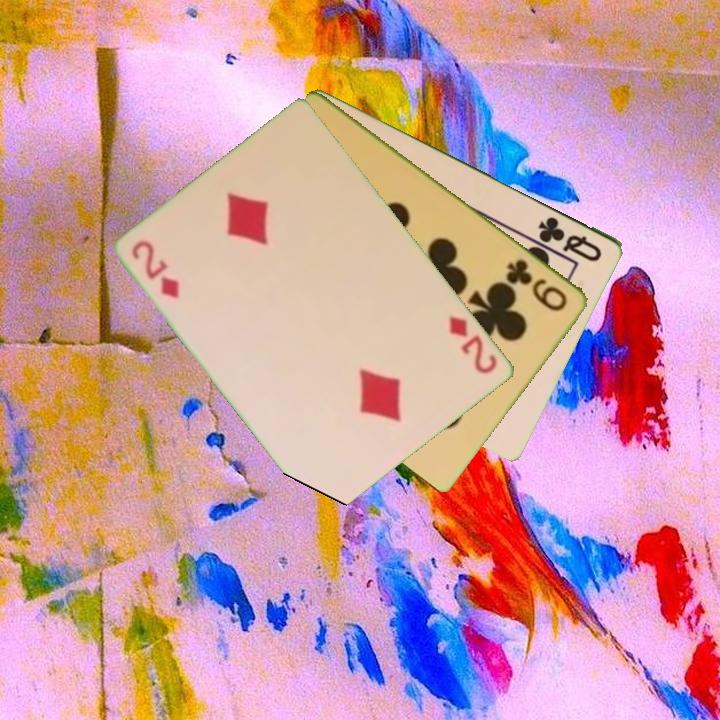2d: (445, 312, 501, 377), (128, 236, 183, 302)
9c: (503, 255, 571, 315)
Qc: (534, 212, 606, 265)
